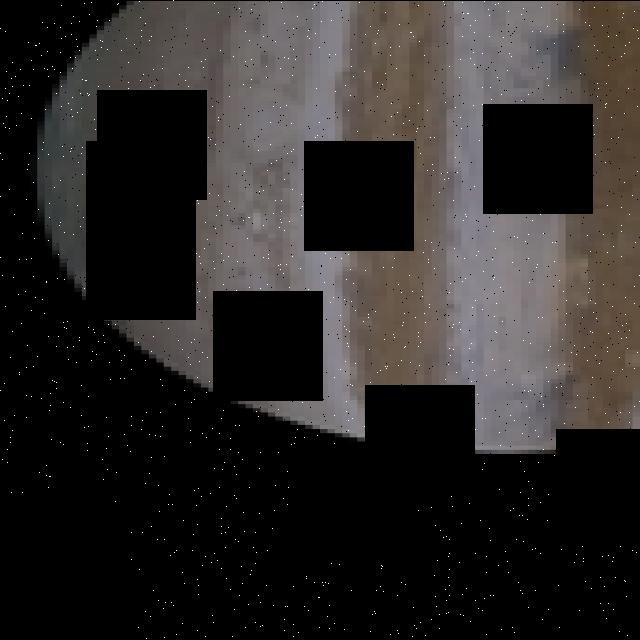Jupiter: (37, 0, 640, 457)
